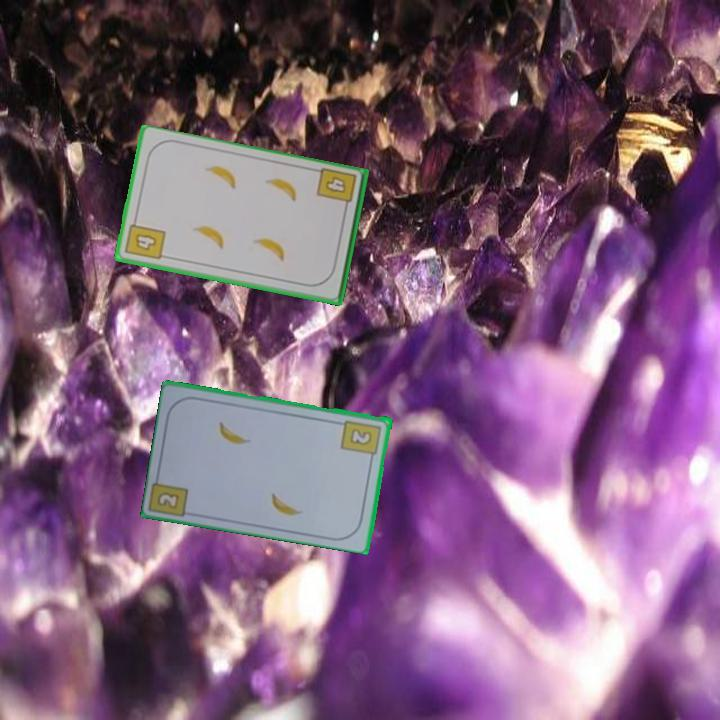2b: (338, 416, 384, 463), (154, 488, 183, 511)
4b: (313, 165, 359, 215), (122, 215, 168, 263)
